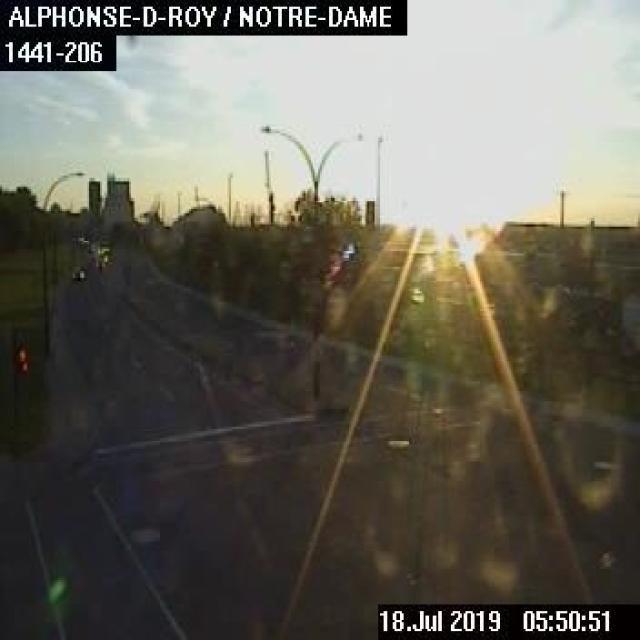vehicle: (66, 262, 88, 282)
